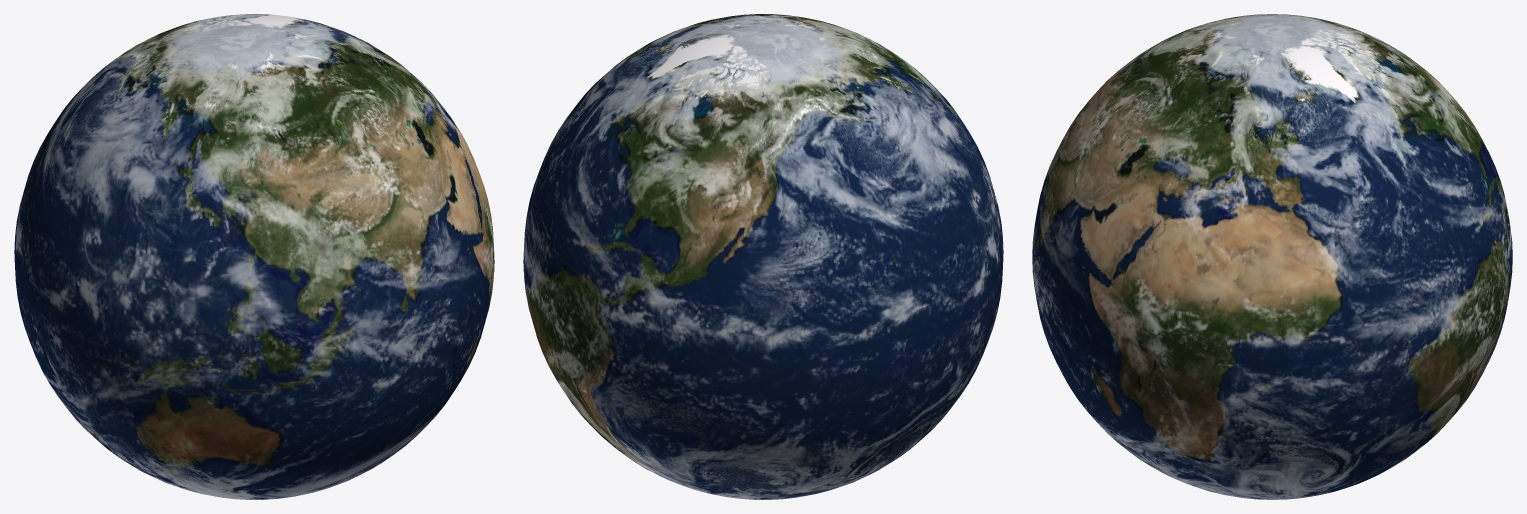
File: tierra.glb
The picture shows the model from 3 angles, left to right: view 1: azimuth 30°, elevation 25°; view 2: azimuth 150°, elevation 25°; view 3: azimuth 270°, elevation 25°; orthographic projection.
Parts seen in each view (by area): view 1: Earth; view 2: Earth; view 3: Earth.
Boxes of the visible parts, left/top/right/bottom form: Earth: left=14, top=14, right=494, bottom=499; Earth: left=523, top=14, right=1003, bottom=499; Earth: left=1032, top=14, right=1512, bottom=499.
Size of the model in its own units: 0.3933 by 0.398 by 0.3933.
1 material, 1 textured.
